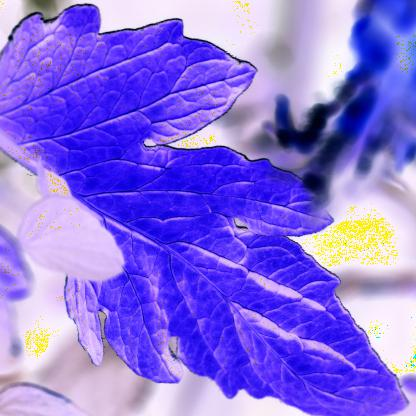tomato leaf: (7, 6, 411, 413)
